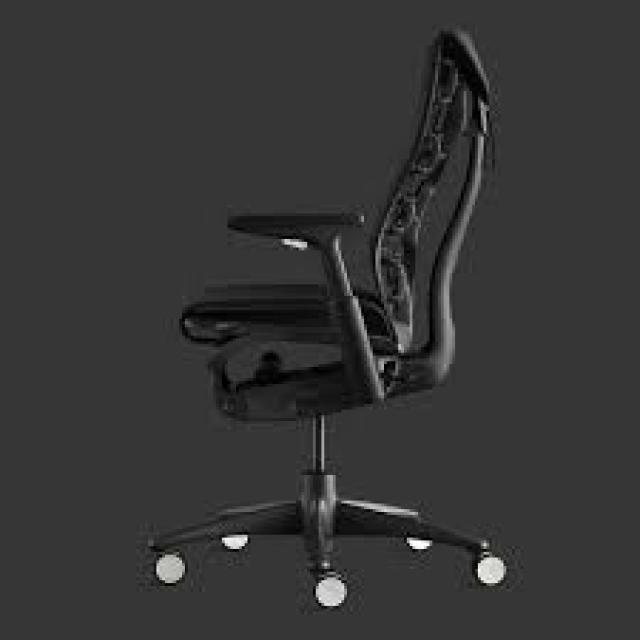chair: (103, 1, 553, 640)
